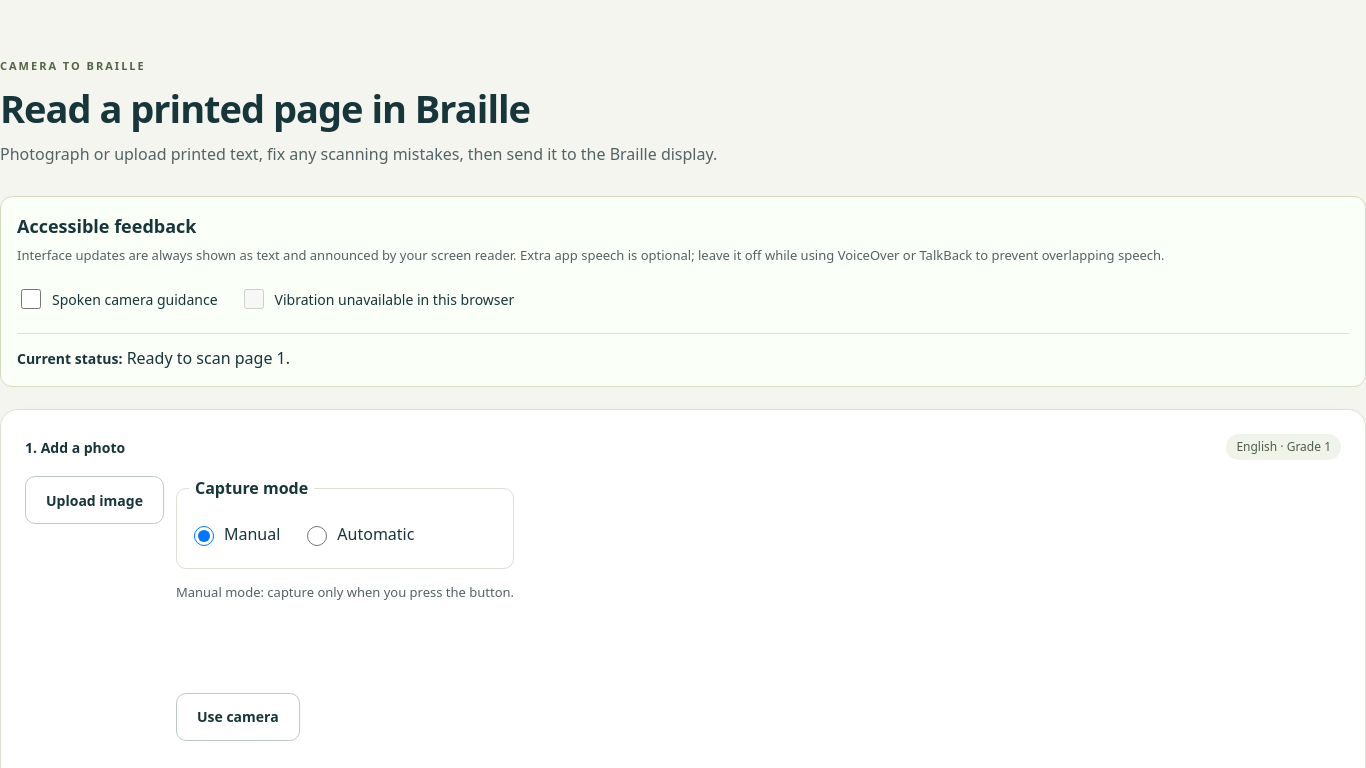
Test case: CameraPanel › explains camera permission problems
Click the button "Use camera": (238, 717) [176,693,300,741]
(page scrolled)
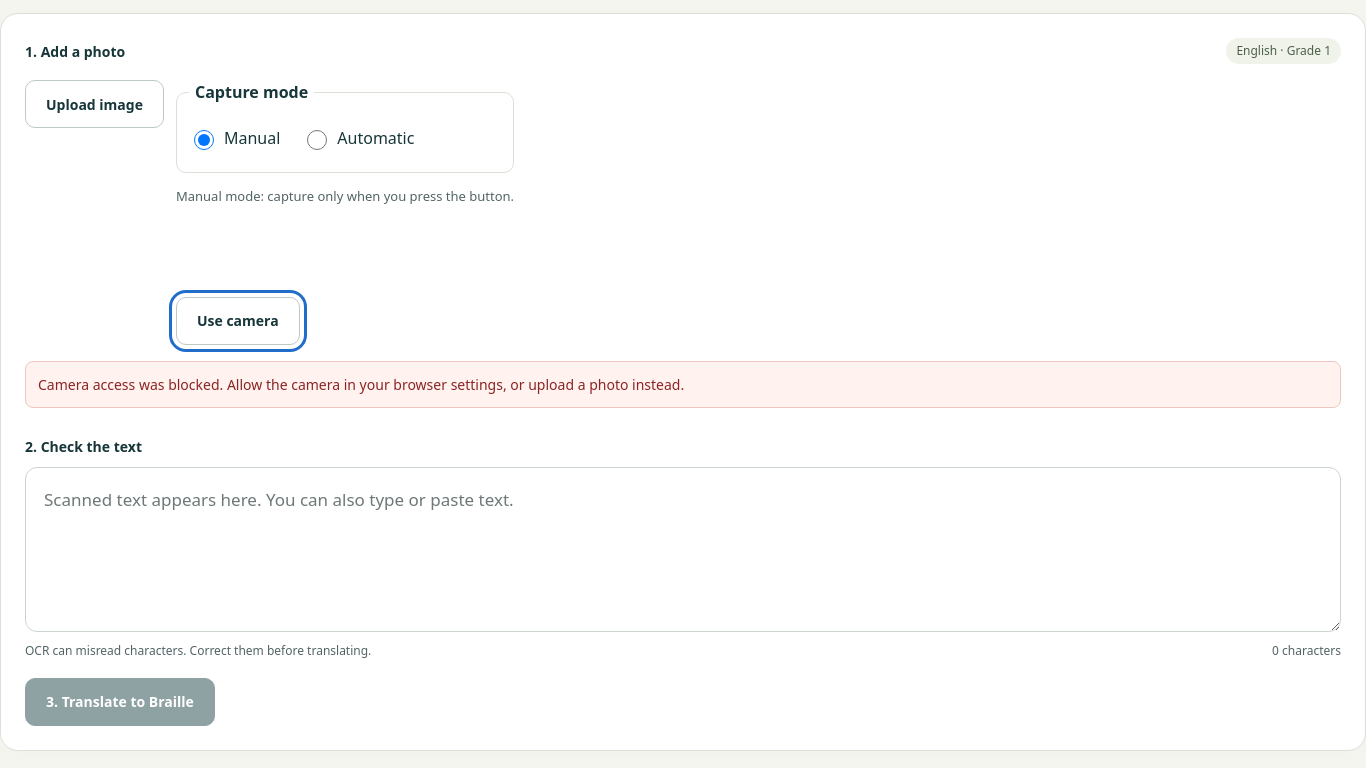
Check: the 3rd message shows "Camera access was blocked", box [38,375,684,394]
